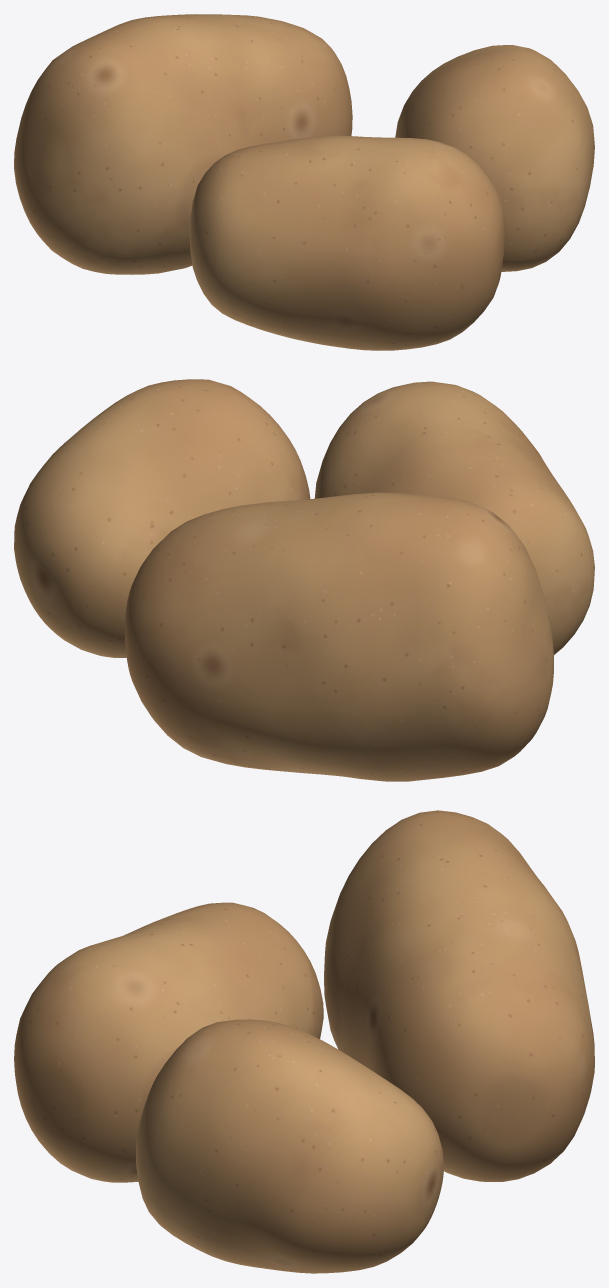
Rendered from potato.glb.
3 renders of one model, top to bottom at view 1: azimuth 30°, elevation 25°; view 2: azimuth 150°, elevation 25°; view 3: azimuth 270°, elevation 25°, orthographic. The views are drawn at different scales.
Parts seen in each view (by area): view 1: potato_body; view 2: potato_body; view 3: potato_body.
Boxes of the visible parts, box(x1,y1,x2,y2) form: potato_body: box(14, 14, 594, 350); potato_body: box(14, 379, 594, 781); potato_body: box(14, 810, 594, 1273).
Size of the model in its own units: 0.1341 by 0.0619 by 0.1204.
Materials: 1 (1 with a texture image).
